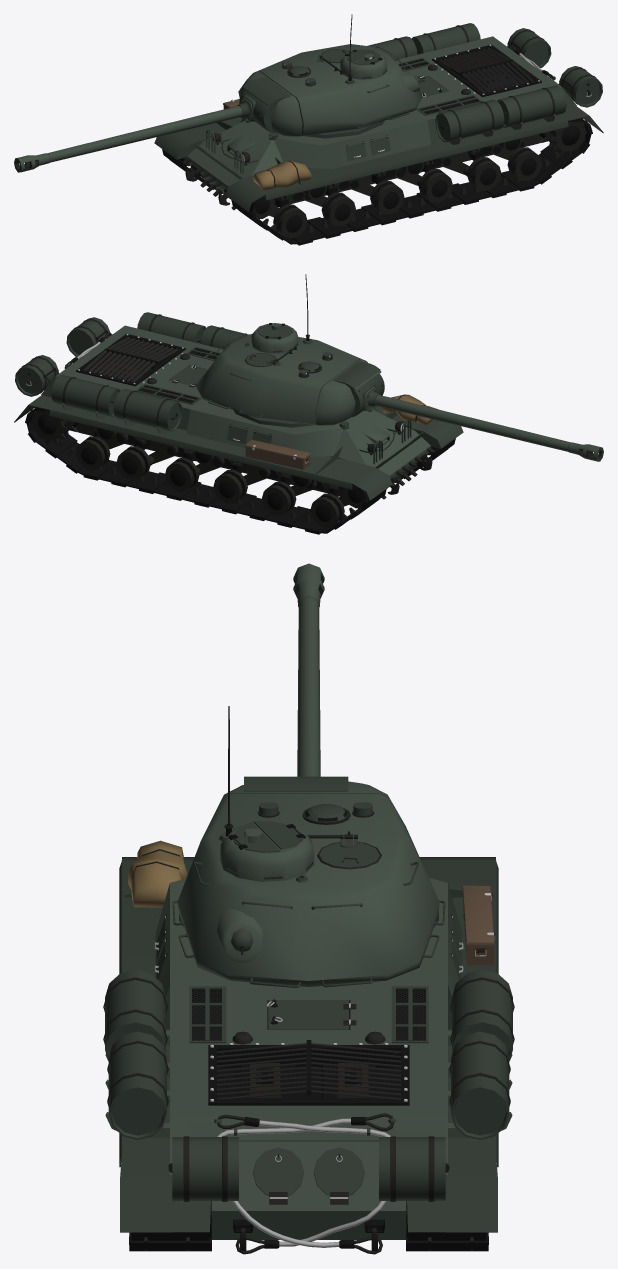
Rendered from IS-2-tank.fbx.
3 views of the same model, one above another, from view 1: azimuth 30°, elevation 25°; view 2: azimuth 150°, elevation 25°; view 3: azimuth 270°, elevation 25° (orthographic). The views are drawn at different scales.
Parts seen in each view (by area): view 1: Cylinder.016, Cube.001, Cube, Cylinder.006, Cube.011, Cylinder.015, Cube.003, Cylinder.008, Cube.004; view 2: Cylinder.016, Cube.001, Cube, Cylinder.006, Cube.011, Cylinder.015, Cylinder.008, Cube.003, Cube.004; view 3: Cylinder.016, Cube, Cube.001, Cube.011, Cube.003, BezierCurve.004, BezierCurve.001, BezierCurve.005.
Part boxes in pixels (x1=…): Cylinder.016: x1=154, y1=23, x2=603, y2=245; Cube.001: x1=14, y1=14, x2=424, y2=174; Cube: x1=187, y1=36, x2=576, y2=207; Cylinder.006: x1=273, y1=157, x2=501, y2=237; Cube.011: x1=439, y1=47, x2=534, y2=93; Cylinder.015: x1=269, y1=156, x2=469, y2=217; Cube.003: x1=253, y1=160, x2=311, y2=190; Cylinder.008: x1=303, y1=138, x2=521, y2=199; Cube.004: x1=275, y1=160, x2=433, y2=207; Cylinder.016: x1=14, y1=312, x2=463, y2=534; Cube.001: x1=195, y1=274, x2=603, y2=464; Cube: x1=41, y1=325, x2=430, y2=496; Cylinder.006: x1=116, y1=446, x2=344, y2=526; Cube.011: x1=83, y1=336, x2=178, y2=382; Cylinder.015: x1=148, y1=445, x2=348, y2=506; Cylinder.008: x1=96, y1=427, x2=314, y2=488; Cube.003: x1=382, y1=394, x2=437, y2=424; Cube.004: x1=184, y1=449, x2=342, y2=496; Cylinder.016: x1=103, y1=857, x2=514, y2=1251; Cube: x1=155, y1=878, x2=495, y2=1248; Cube.001: x1=177, y1=563, x2=439, y2=987; Cube.011: x1=217, y1=1043, x2=400, y2=1099; Cube.003: x1=128, y1=840, x2=187, y2=907; BezierCurve.004: x1=259, y1=1120, x2=390, y2=1246; BezierCurve.001: x1=217, y1=1118, x2=350, y2=1247; BezierCurve.005: x1=217, y1=1113, x2=394, y2=1254.
Bounding box in the file's own units: 2645 × 888 × 854.
